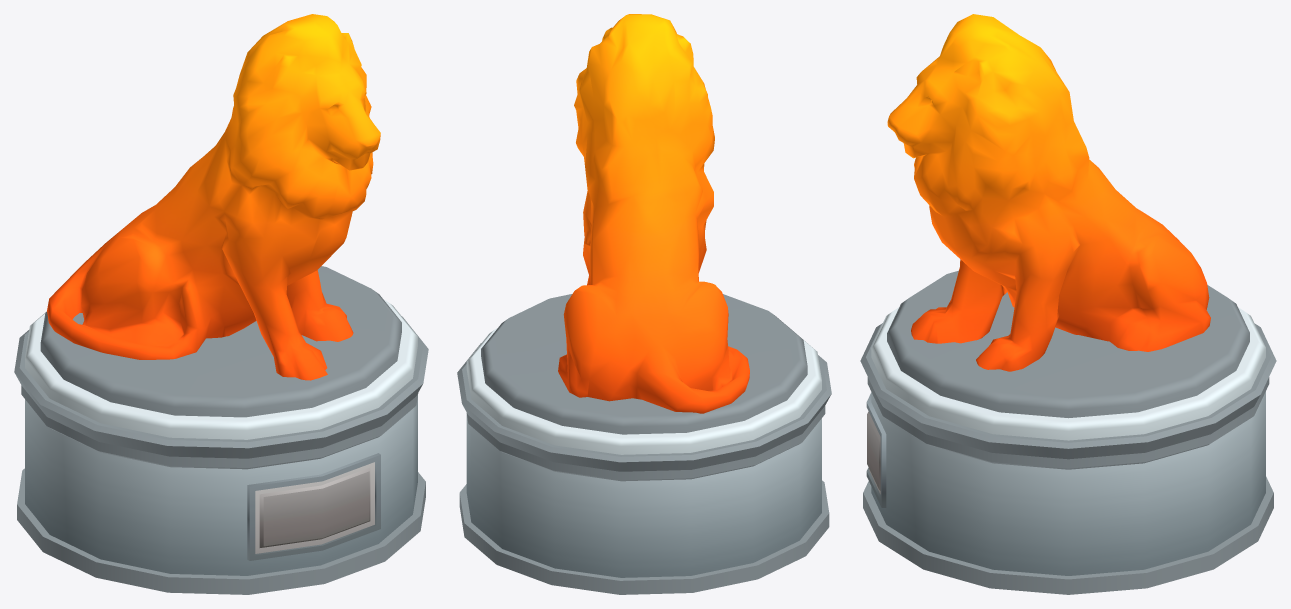
Rendered from city2-statue-01.glb.
The picture shows the model from 3 angles, left to right: view 1: azimuth 30°, elevation 25°; view 2: azimuth 150°, elevation 25°; view 3: azimuth 270°, elevation 25°; orthographic projection. The views are drawn at different scales.
Parts seen in each view (by area): view 1: Statue_01; view 2: Statue_01; view 3: Statue_01.
Boxes of the visible parts, x1=… form: Statue_01: x1=14, y1=14, x2=428, y2=594; Statue_01: x1=457, y1=14, x2=831, y2=594; Statue_01: x1=860, y1=14, x2=1276, y2=594.
Size of the model in its own units: 6.46 by 8.68 by 6.46.
Materials: 1 (1 with a texture image).
